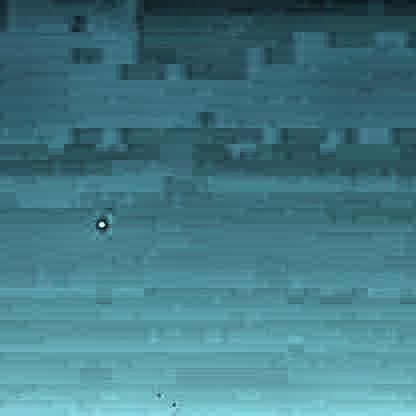golfball: (93, 216, 105, 228)
